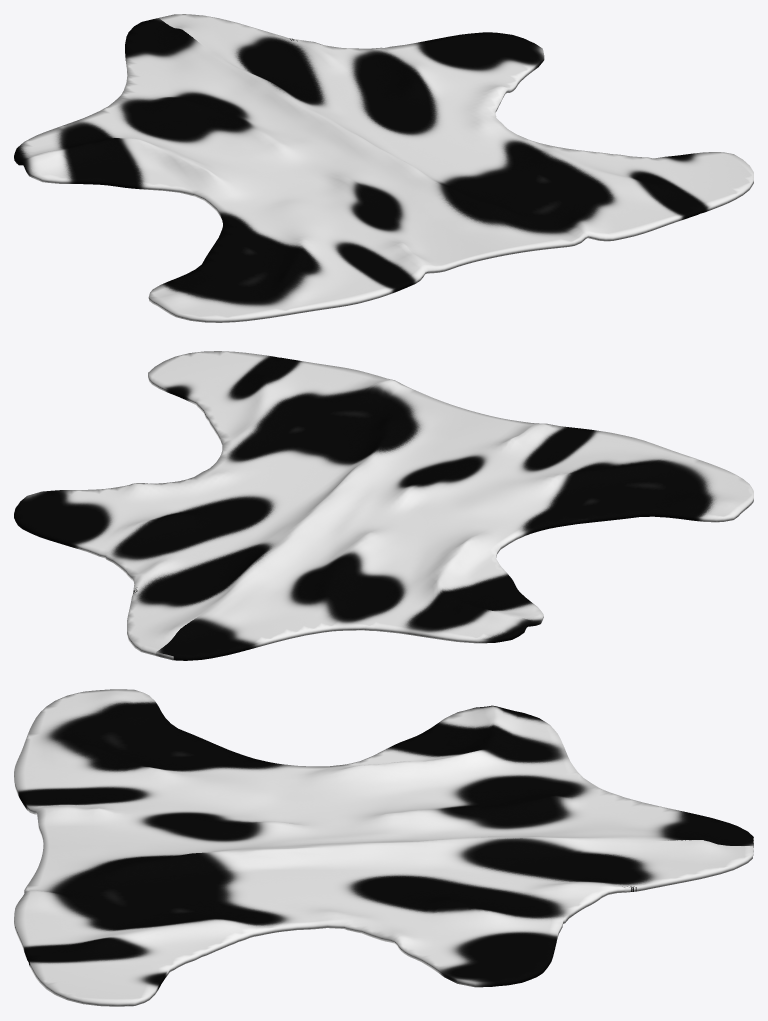
File: carpet_type_2.glb
3 renders of one model, top to bottom at view 1: azimuth 30°, elevation 25°; view 2: azimuth 150°, elevation 25°; view 3: azimuth 270°, elevation 25°, orthographic. The views are drawn at different scales.
Visible parts, largest first — view 1: carpet; view 2: carpet; view 3: carpet.
Boxes of the visible parts, left/top/right/bottom form: carpet: left=14, top=14, right=753, bottom=322; carpet: left=14, top=351, right=753, bottom=660; carpet: left=14, top=689, right=753, bottom=1006.
Bounding box in the file's own units: 1.5 × 0.038 × 1.5.
Materials: 1 (1 with a texture image).
